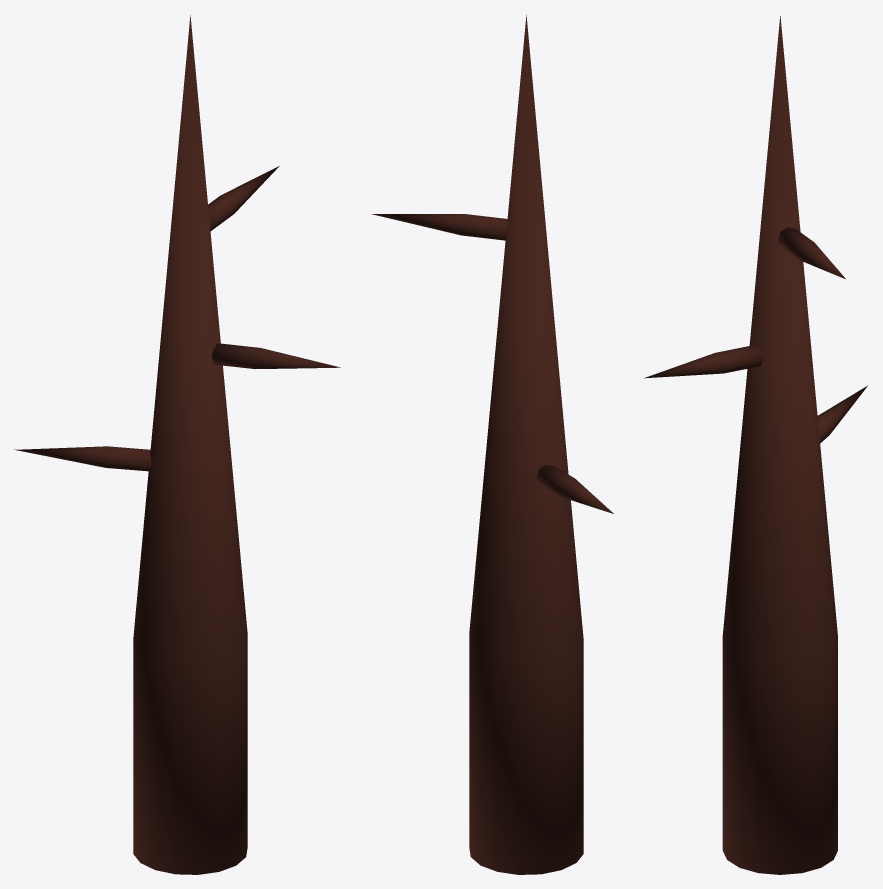
Rendered from low_poly_tree2-DB2G0bmI.glb.
3 views of the same model, side by side, from view 1: azimuth 30°, elevation 25°; view 2: azimuth 150°, elevation 25°; view 3: azimuth 270°, elevation 25° (orthographic).
Visible parts, largest first — view 1: Cylinder, Cylinder.002, Cylinder.003, Cylinder.001; view 2: Cylinder, Cylinder.001, Cylinder.002; view 3: Cylinder, Cylinder.003, Cylinder.001, Cylinder.002.
Part boxes in pixels (bbox=[...]): Cylinder: bbox=[133, 15, 247, 874]; Cylinder.002: bbox=[14, 446, 151, 471]; Cylinder.003: bbox=[212, 343, 340, 369]; Cylinder.001: bbox=[208, 166, 279, 230]; Cylinder: bbox=[469, 14, 583, 874]; Cylinder.001: bbox=[371, 214, 507, 240]; Cylinder.002: bbox=[536, 464, 613, 513]; Cylinder: bbox=[722, 16, 837, 874]; Cylinder.003: bbox=[644, 345, 762, 378]; Cylinder.001: bbox=[778, 227, 845, 279]; Cylinder.002: bbox=[817, 385, 867, 443].
Size of the model in its own units: 2.55 by 8 by 1.95.
